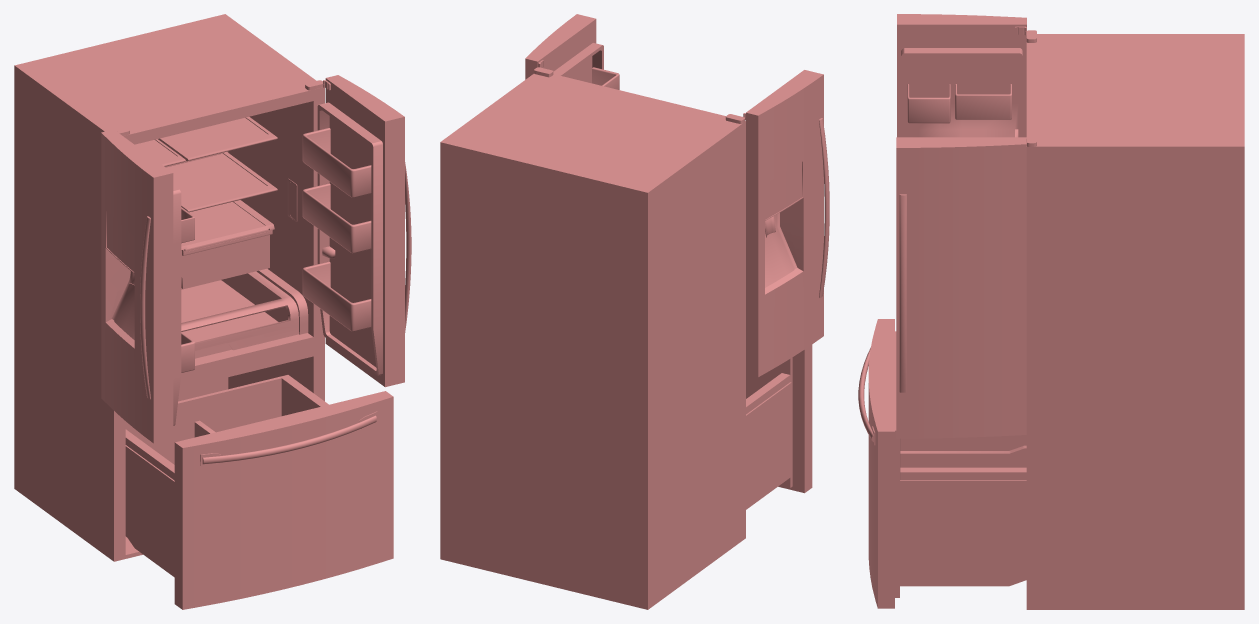
File: Samsung_Fridge_low.FBX
The picture shows the model from 3 angles, left to right: view 1: azimuth 30°, elevation 25°; view 2: azimuth 150°, elevation 25°; view 3: azimuth 270°, elevation 25°; orthographic projection. The views are drawn at different scales.
Visible parts, largest first — view 1: Body, Refregerator, Left_Door, Right_Door, Interior_Drawner (×2), Interior_Shelves, Right_Door_Shelves, Refregerator_Handle, Left_Door_Handle, Left_Door_Shelves, Interior_Support, Right_Door_Handle; view 2: Body, Left_Door, Refregerator, Right_Door, Left_Door_Handle; view 3: Body, Right_Door, Refregerator, Left_Door, Left_Door_Shelves, Right_Door_Handle, Refregerator_Handle.
Part boxes in pixels (x1,y1,x2,y2): Body: [14, 14, 324, 561]; Refregerator: [125, 375, 393, 609]; Left_Door: [101, 129, 181, 443]; Right_Door: [317, 75, 404, 387]; Interior_Drawner (×2): [181, 229, 299, 358]; Interior_Shelves: [135, 117, 277, 250]; Right_Door_Shelves: [302, 128, 371, 331]; Refregerator_Handle: [202, 415, 376, 464]; Left_Door_Handle: [140, 216, 150, 399]; Left_Door_Shelves: [181, 207, 194, 372]; Interior_Support: [256, 268, 308, 334]; Right_Door_Handle: [405, 162, 411, 332]; Body: [440, 73, 745, 609]; Left_Door: [746, 70, 823, 377]; Refregerator: [746, 344, 812, 509]; Right_Door: [525, 14, 603, 83]; Left_Door_Handle: [819, 118, 829, 297]; Body: [1026, 34, 1244, 609]; Right_Door: [896, 137, 1026, 438]; Refregerator: [868, 319, 1026, 608]; Left_Door: [897, 14, 1026, 137]; Left_Door_Shelves: [907, 84, 1011, 123]; Right_Door_Handle: [899, 194, 906, 392]; Refregerator_Handle: [858, 347, 873, 442].
Size of the model in its own units: 45.65 by 70.48 by 51.8.
